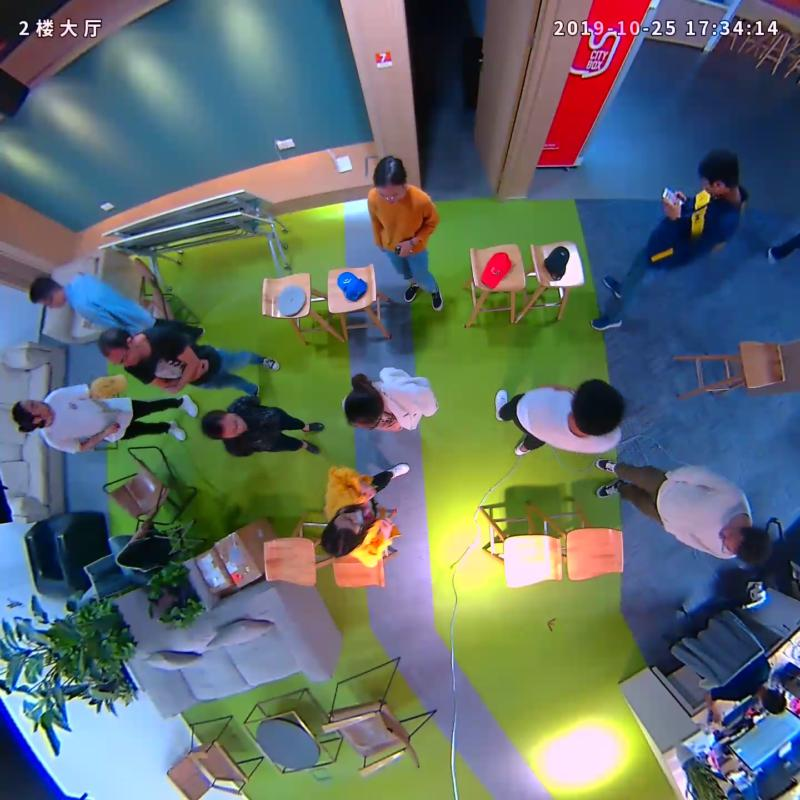head: (570, 378, 623, 437), (717, 521, 770, 562), (696, 149, 739, 195), (321, 512, 361, 559), (372, 154, 408, 204), (344, 387, 384, 429), (97, 327, 139, 366), (201, 410, 245, 440), (28, 275, 66, 308), (10, 399, 50, 430)
